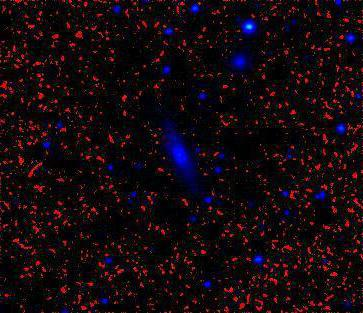star: (324, 0, 354, 21)
